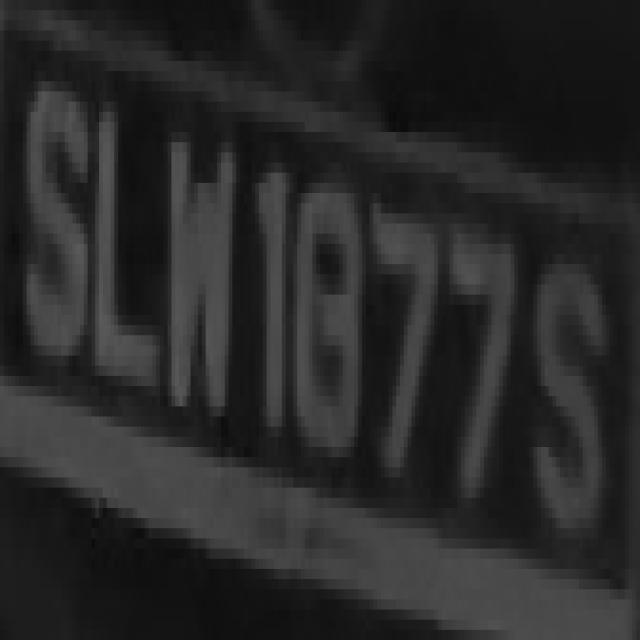1: (259, 102, 297, 508)
7: (430, 193, 522, 538), (358, 173, 442, 528)
8: (297, 132, 358, 488)
L: (76, 91, 160, 437)
S: (526, 223, 602, 569), (15, 51, 84, 386)
W: (160, 101, 244, 488)
